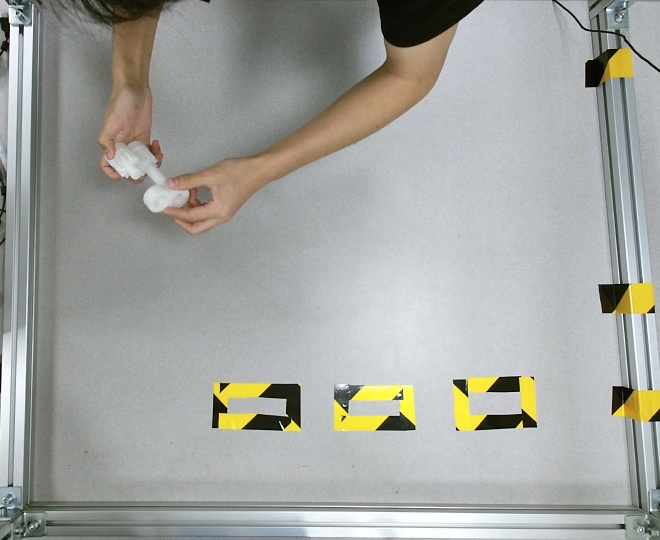stage_3: (105, 142, 188, 211)
